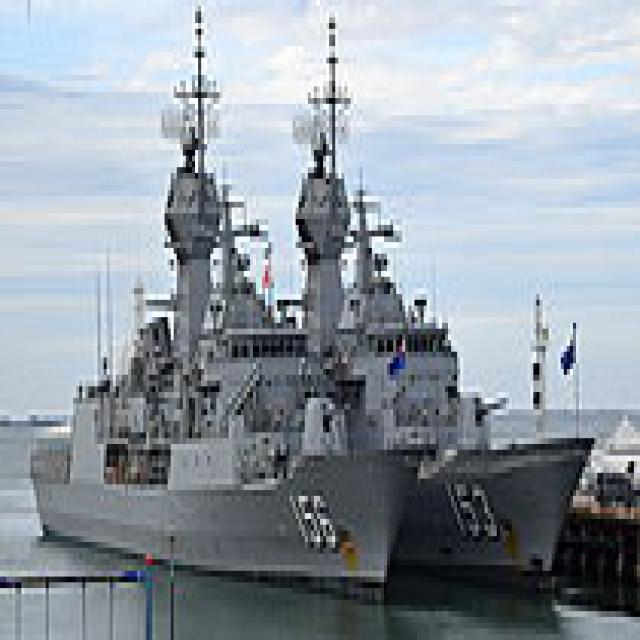Warship: (24, 0, 423, 605), (268, 6, 594, 605)
